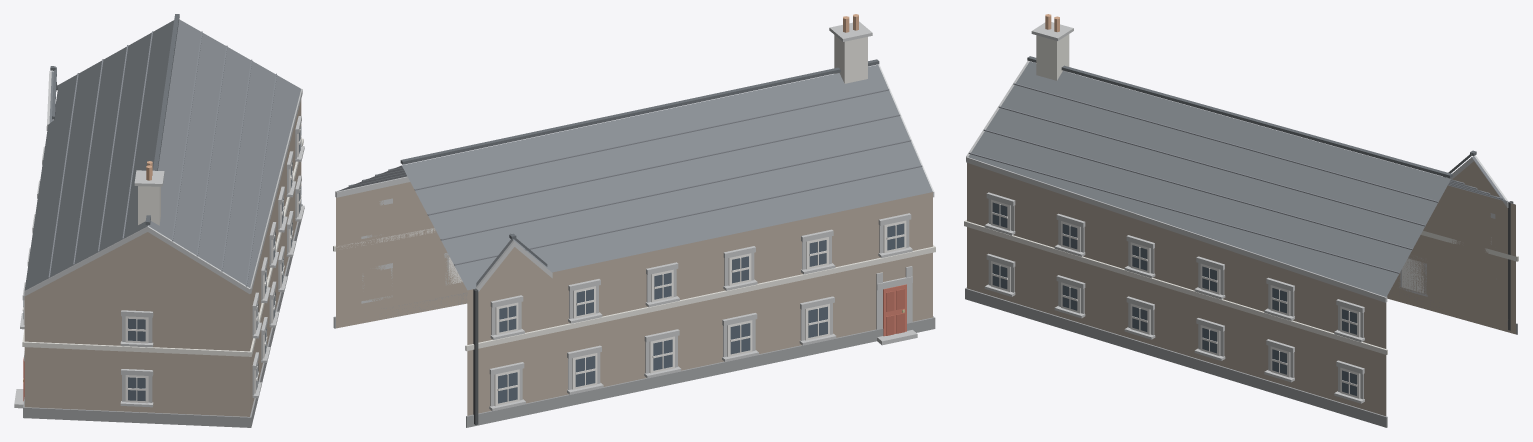
The picture shows the model from 3 angles, left to right: view 1: azimuth 30°, elevation 25°; view 2: azimuth 150°, elevation 25°; view 3: azimuth 270°, elevation 25°; orthographic projection. The views are drawn at different scales.
Visible parts, largest first — view 1: slate, harl_brown, stone_band, slate_lt, plinth, frame, string, slate_dk, chim_render, window_glass_012, window_glass_013; view 2: slate, harl_brown, stone_band, plinth, frame, slate_lt, string, slate_dk, chim_render, pipe, door_red_p, door_red; view 3: slate, harl_brown, stone_band, plinth, frame, slate_lt, string, slate_dk, chim_render.
Boxes of the visible parts, bbox=[...] form: slate: bbox=[24, 19, 300, 290]; harl_brown: bbox=[24, 99, 301, 416]; stone_band: bbox=[14, 71, 304, 408]; slate_lt: bbox=[48, 31, 276, 286]; plinth: bbox=[23, 204, 302, 427]; frame: bbox=[22, 127, 301, 403]; string: bbox=[22, 138, 303, 356]; slate_dk: bbox=[50, 14, 179, 224]; chim_render: bbox=[138, 186, 160, 225]; window_glass_012: bbox=[128, 377, 145, 400]; window_glass_013: bbox=[128, 318, 145, 341]; slate: bbox=[337, 65, 932, 290]; harl_brown: bbox=[336, 182, 932, 415]; stone_band: bbox=[335, 21, 934, 411]; plinth: bbox=[333, 292, 935, 427]; frame: bbox=[449, 220, 906, 406]; slate_lt: bbox=[348, 89, 922, 265]; string: bbox=[333, 228, 935, 351]; slate_dk: bbox=[400, 59, 879, 266]; chim_render: bbox=[834, 35, 867, 83]; pipe: bbox=[473, 288, 478, 424]; door_red_p: bbox=[886, 289, 904, 335]; door_red: bbox=[883, 284, 906, 336]; slate: bbox=[968, 61, 1514, 296]; harl_brown: bbox=[967, 161, 1515, 416]; stone_band: bbox=[966, 22, 1508, 403]; plinth: bbox=[965, 287, 1517, 427]; frame: bbox=[991, 199, 1491, 398]; slate_lt: bbox=[968, 83, 1503, 273]; string: bbox=[964, 220, 1518, 354]; slate_dk: bbox=[1027, 56, 1476, 178]; chim_render: bbox=[1036, 34, 1069, 80].
Bounding box in the file's own units: 19.1 × 10.72 × 21.3.
